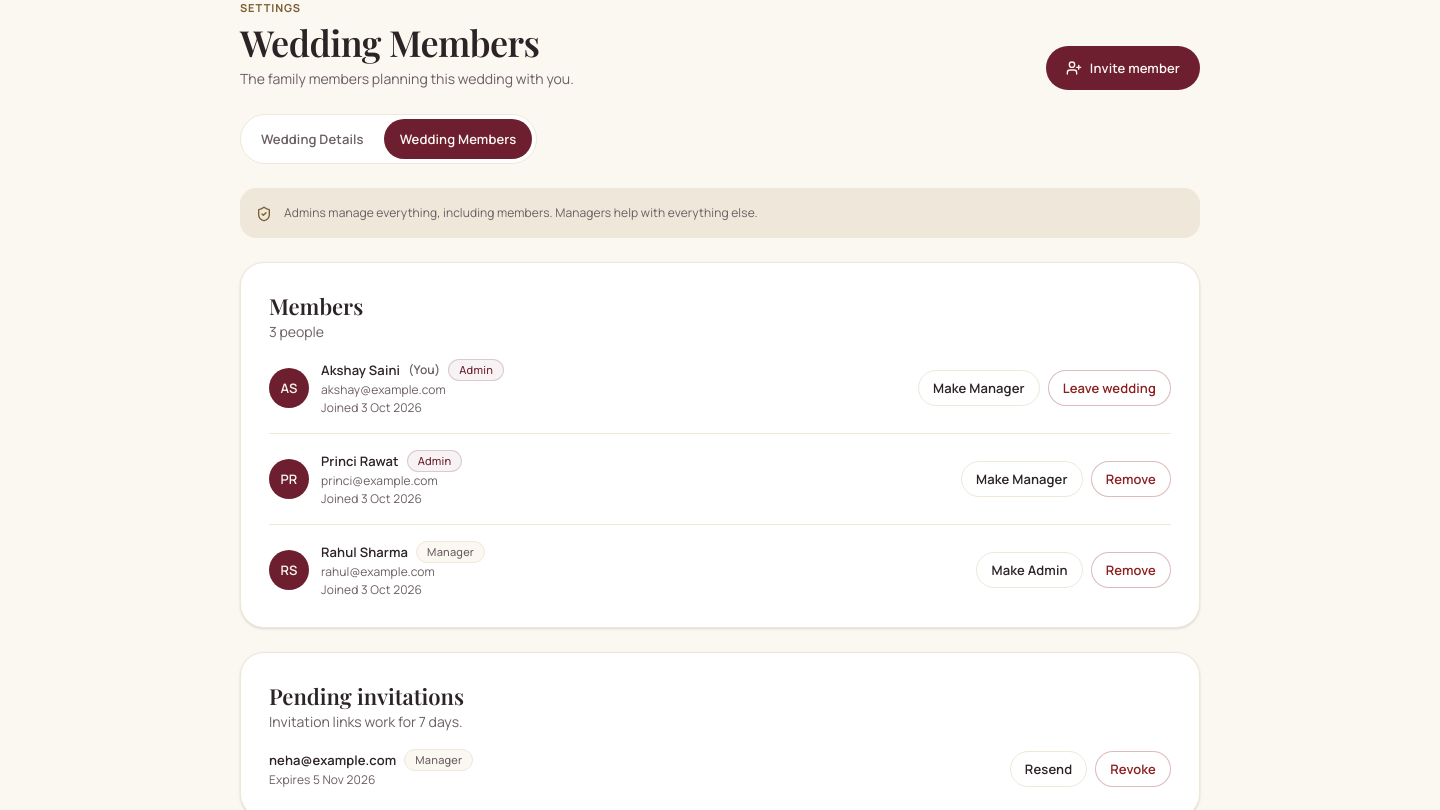
Test: <MembersScreen /> as an Admin › removes a member after confirming
Click the button "Remove" in the row of "Rahul Sharma" at (1131, 570), box [1091,552,1171,588]
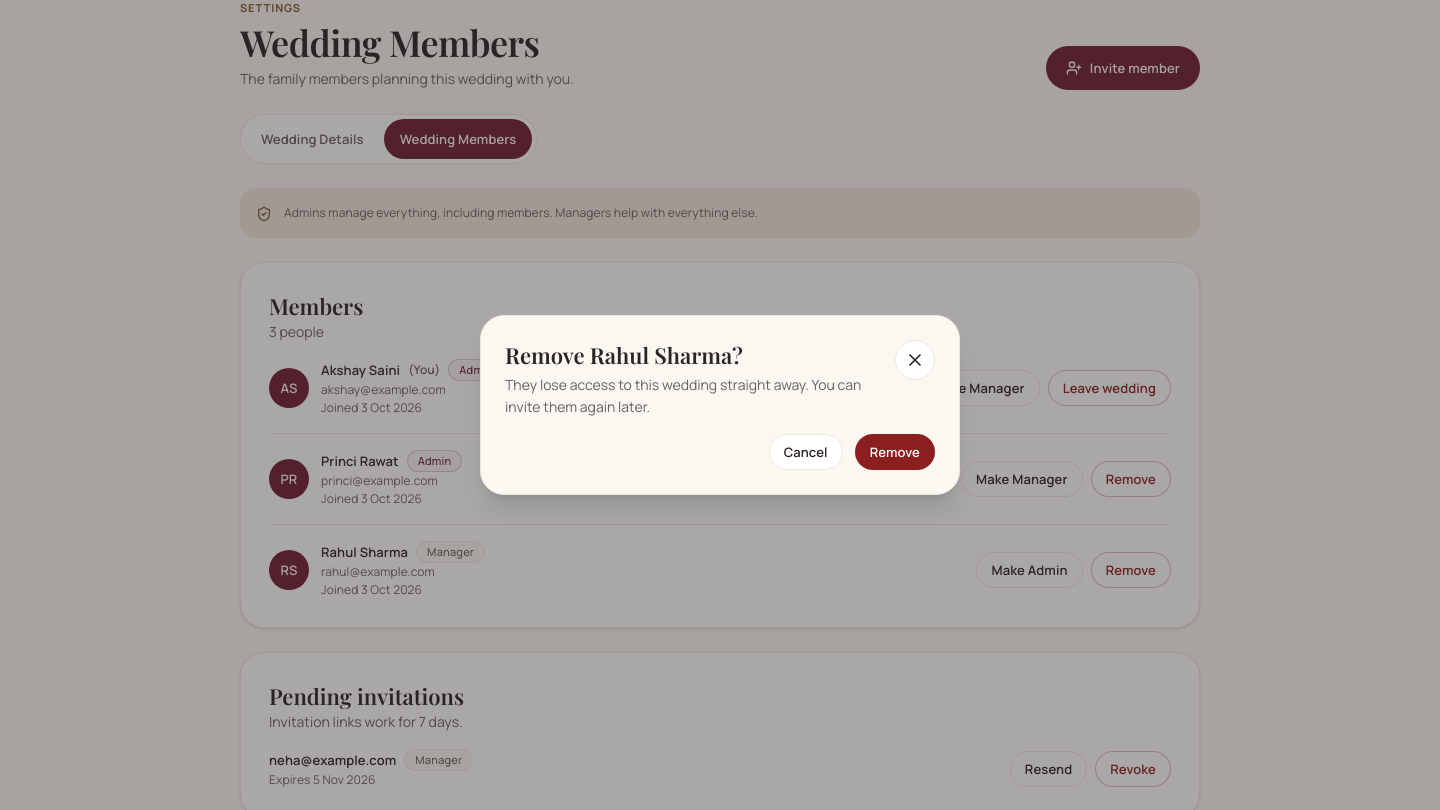
Click the button "Remove" at (895, 452), box [855,434,935,470]
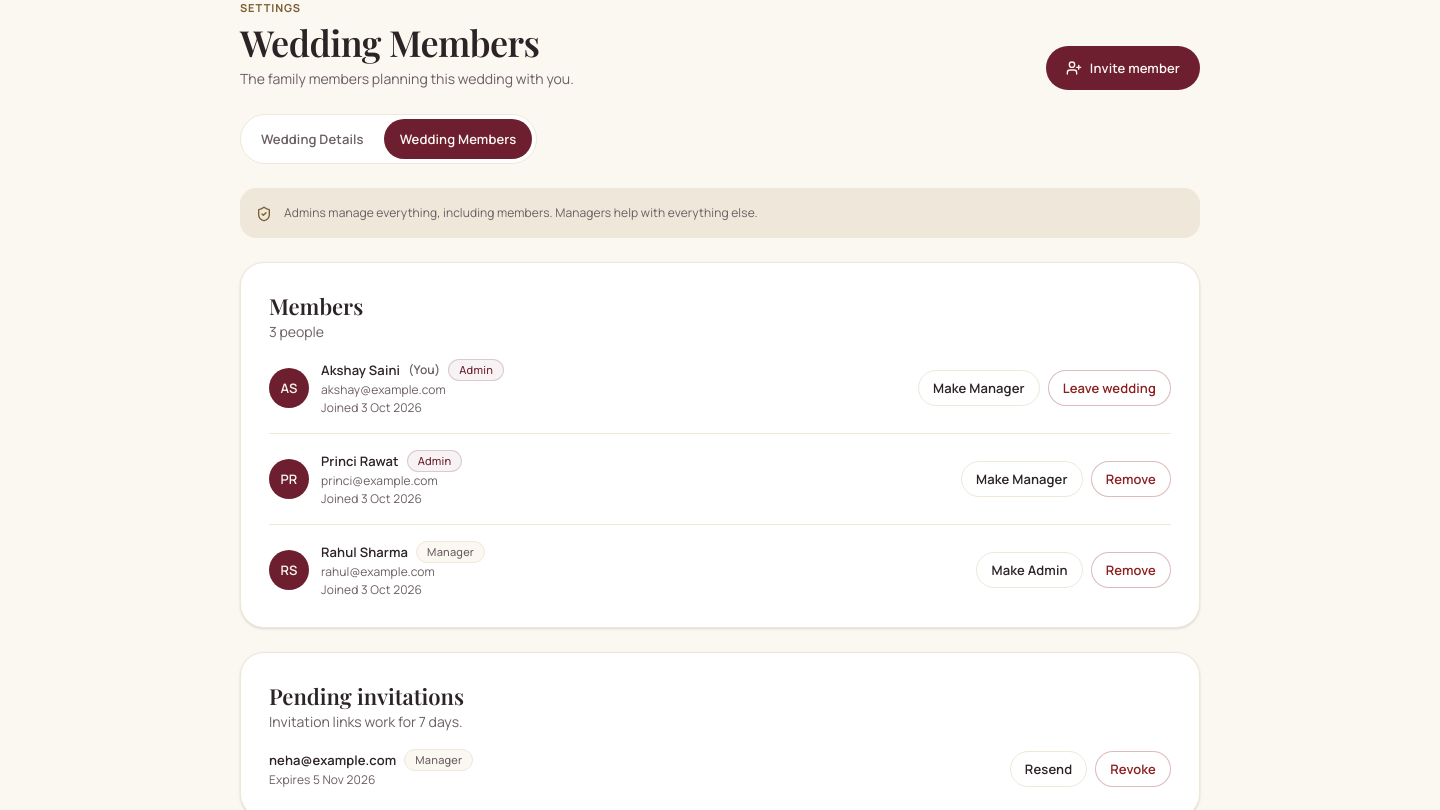
Check: the dialog is gone
